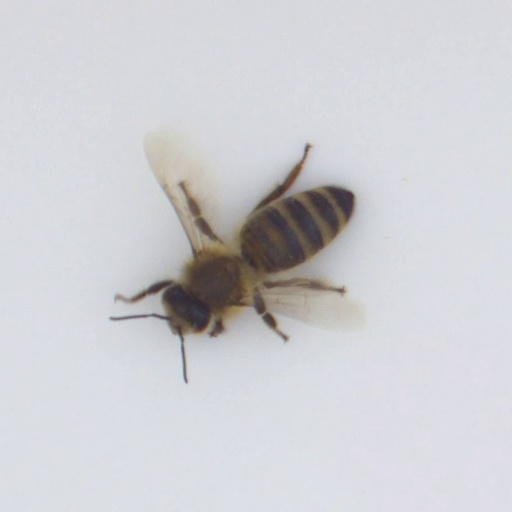Bee: (132, 164, 380, 364)
Thorax: (184, 247, 247, 311)
